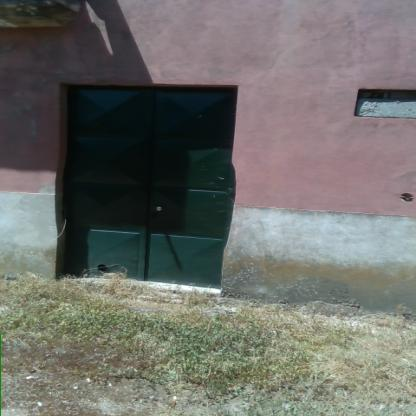closed: (47, 66, 246, 291)
